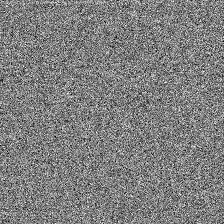cavities: (64, 63, 224, 124)
